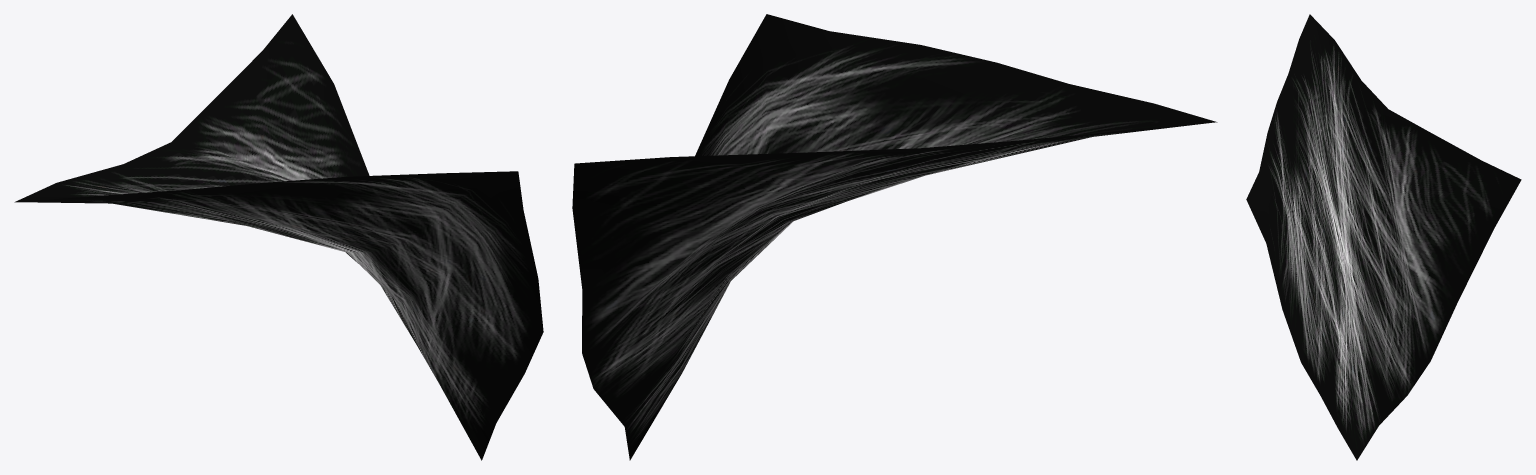
The model's file is SWORDLIGHT20_PS-AREA01_CORNERWEB20.fbx.
The picture shows the model from 3 angles, left to right: view 1: azimuth 30°, elevation 25°; view 2: azimuth 150°, elevation 25°; view 3: azimuth 270°, elevation 25°; orthographic projection. The views are drawn at different scales.
Visible parts, largest first — view 1: SWORDLIGHT20_PS-AREA01_CORNERWEB20; view 2: SWORDLIGHT20_PS-AREA01_CORNERWEB20; view 3: SWORDLIGHT20_PS-AREA01_CORNERWEB20.
Part boxes in pixels (bbox=[...]): SWORDLIGHT20_PS-AREA01_CORNERWEB20: bbox=[14, 14, 543, 460]; SWORDLIGHT20_PS-AREA01_CORNERWEB20: bbox=[572, 14, 1217, 460]; SWORDLIGHT20_PS-AREA01_CORNERWEB20: bbox=[1246, 14, 1521, 460].
Size of the model in its own units: 81925 by 60855 by 54453.
Materials: 1 (1 with a texture image).
